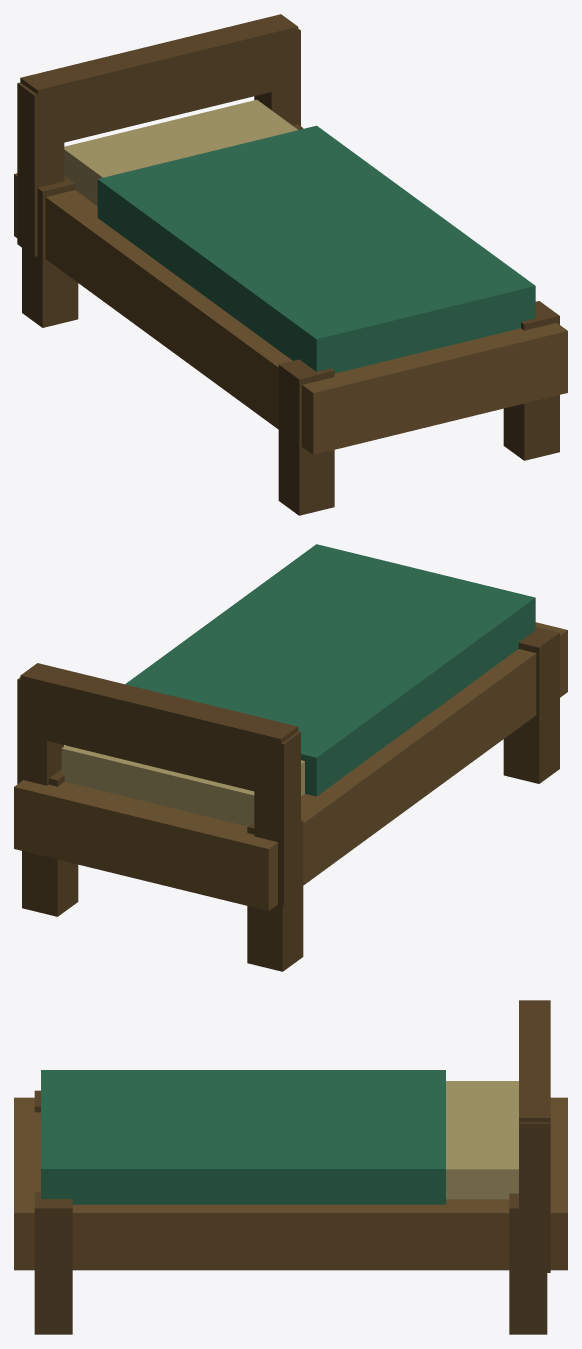
The model's file is worker_bed.glb.
3 renders of one model, top to bottom at view 1: azimuth 30°, elevation 25°; view 2: azimuth 150°, elevation 25°; view 3: azimuth 270°, elevation 25°, orthographic. The views are drawn at different scales.
Visible parts, largest first — view 1: worker_bed; view 2: worker_bed; view 3: worker_bed.
Boxes of the visible parts, box(x1,y1,x2,y2) form: worker_bed: box(14, 14, 567, 515); worker_bed: box(14, 544, 567, 971); worker_bed: box(14, 1000, 567, 1334).
Bounding box in the file's own units: 0.9 × 0.755 × 1.75.
